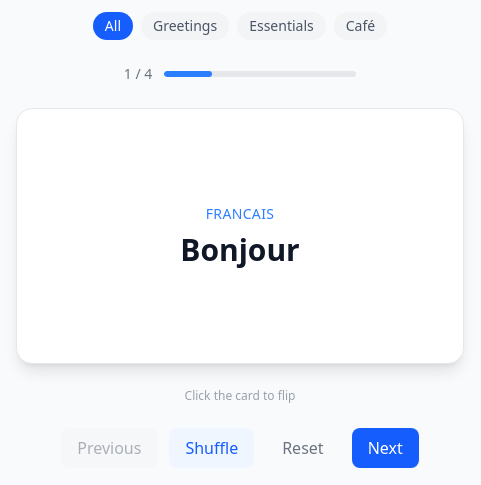
Scenario: FlashCardDeck › navigates back to the previous card
Click the button "Next" at (385, 448), box top-left (352, 428), bottom-right (419, 468)
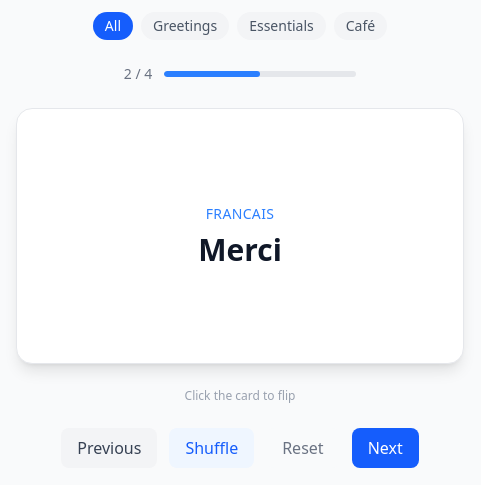
Click the button "Previous" at (109, 448), box top-left (61, 428), bottom-right (158, 468)
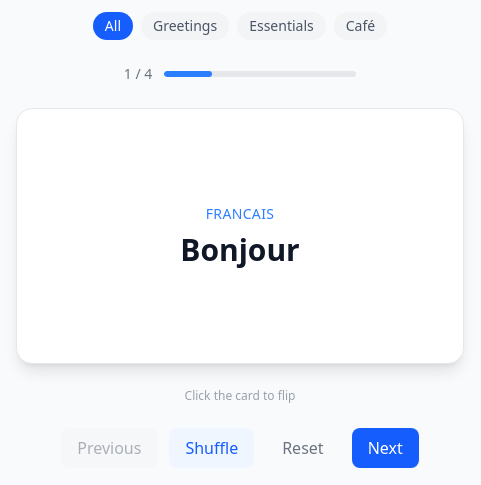
Expected: the text "Bonjour" is shown, top-left (180, 232), bottom-right (300, 268)
Expected: the text "1 / 4" is shown, top-left (124, 64), bottom-right (152, 84)
